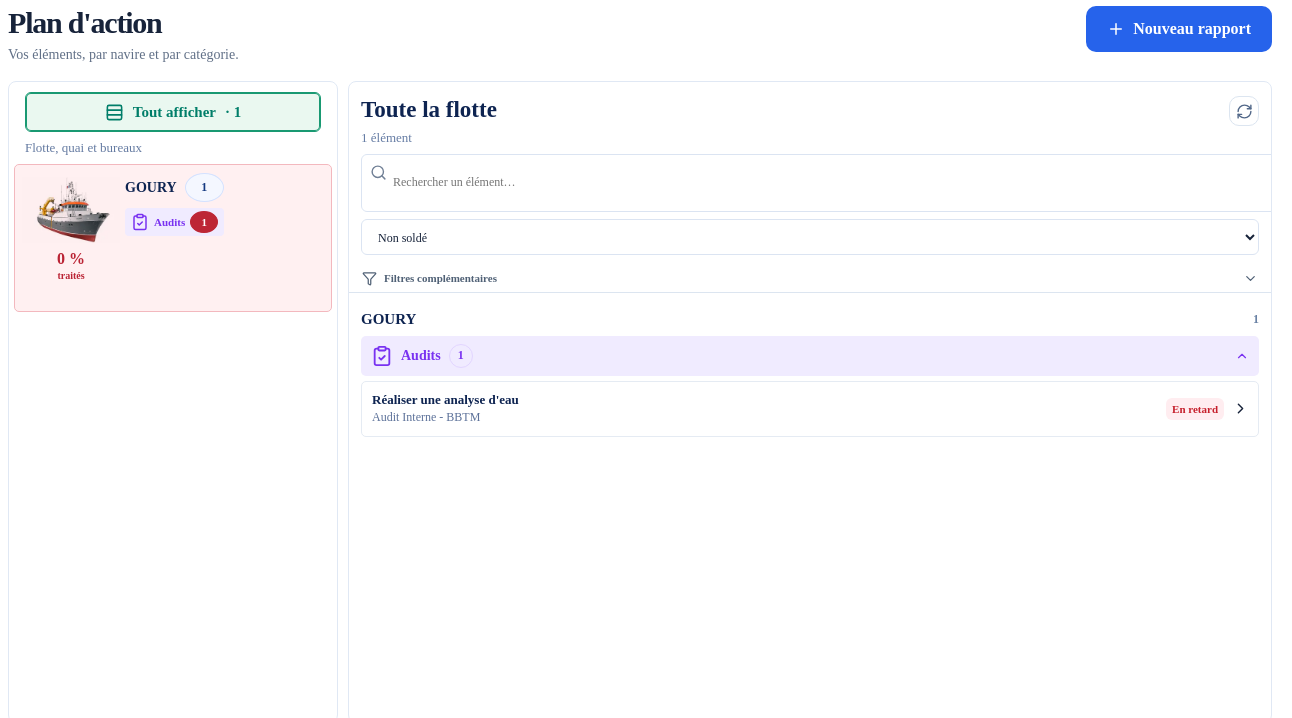
ActionPlanPage › keeps ship consultation without a followup form for a read-only marin
This screenshot has width=1292, height=718.
Click the button with aria-label "Réaliser une analyse d'eau · GOURY".
click(445, 400)  # box x1=361 y1=381 x2=1259 y2=437
(page scrolled)
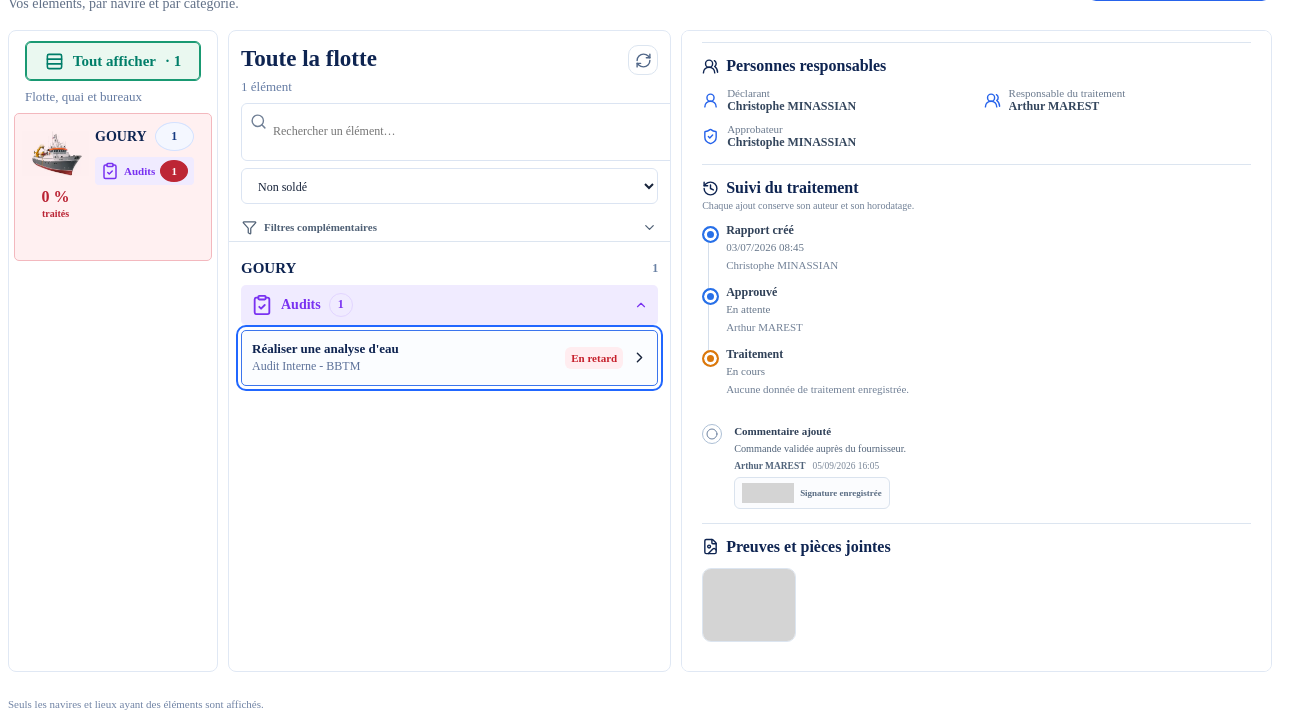
Check: the text "Commande validée auprès du fournisseur." is shown, box x1=734 y1=444 x2=906 y2=454
